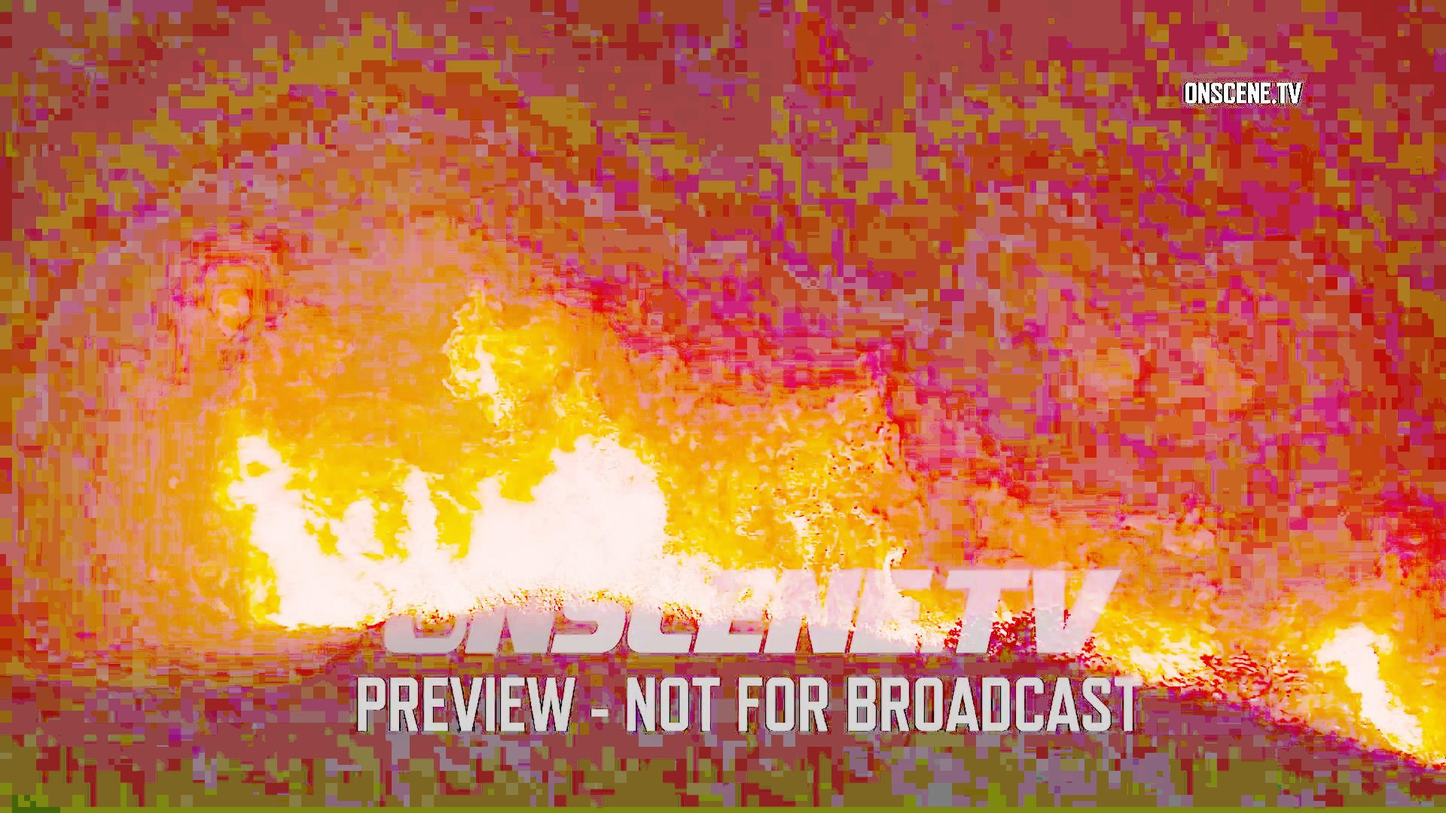fire: (224, 424, 665, 624), (1300, 623, 1445, 771)
